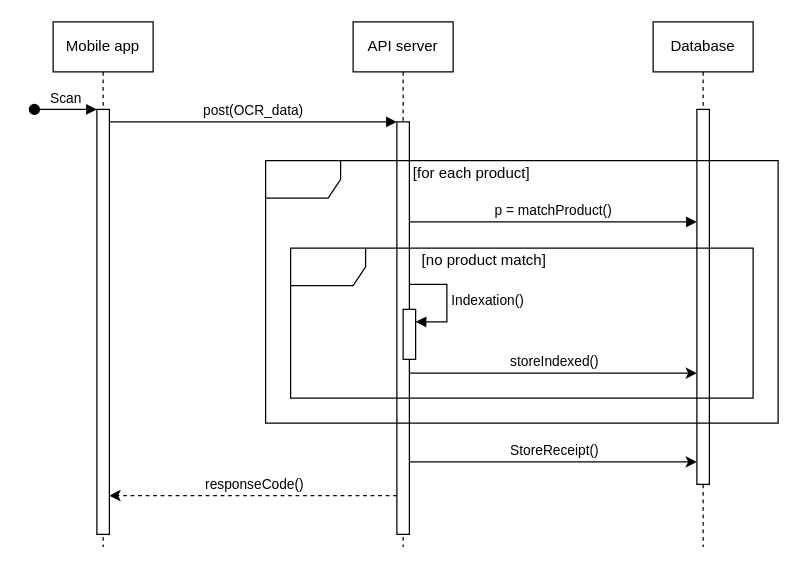
Some shapes in this 800 by 569 pixel diagram are drawn without their labels. The box of each missing label's shape, as (x1, y1, x2, y2) in pixels:
loop: (264, 159, 778, 423)
opt: (289, 247, 753, 398)
